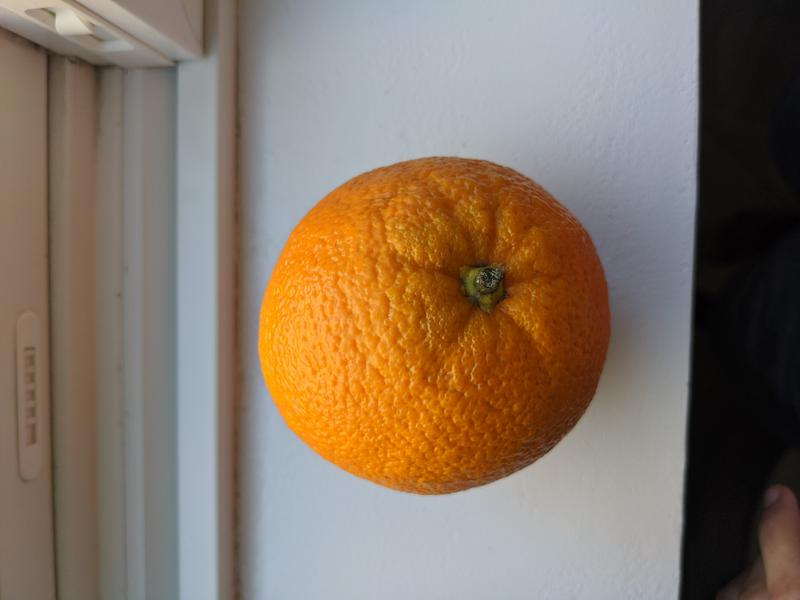orange: (255, 154, 616, 496)
